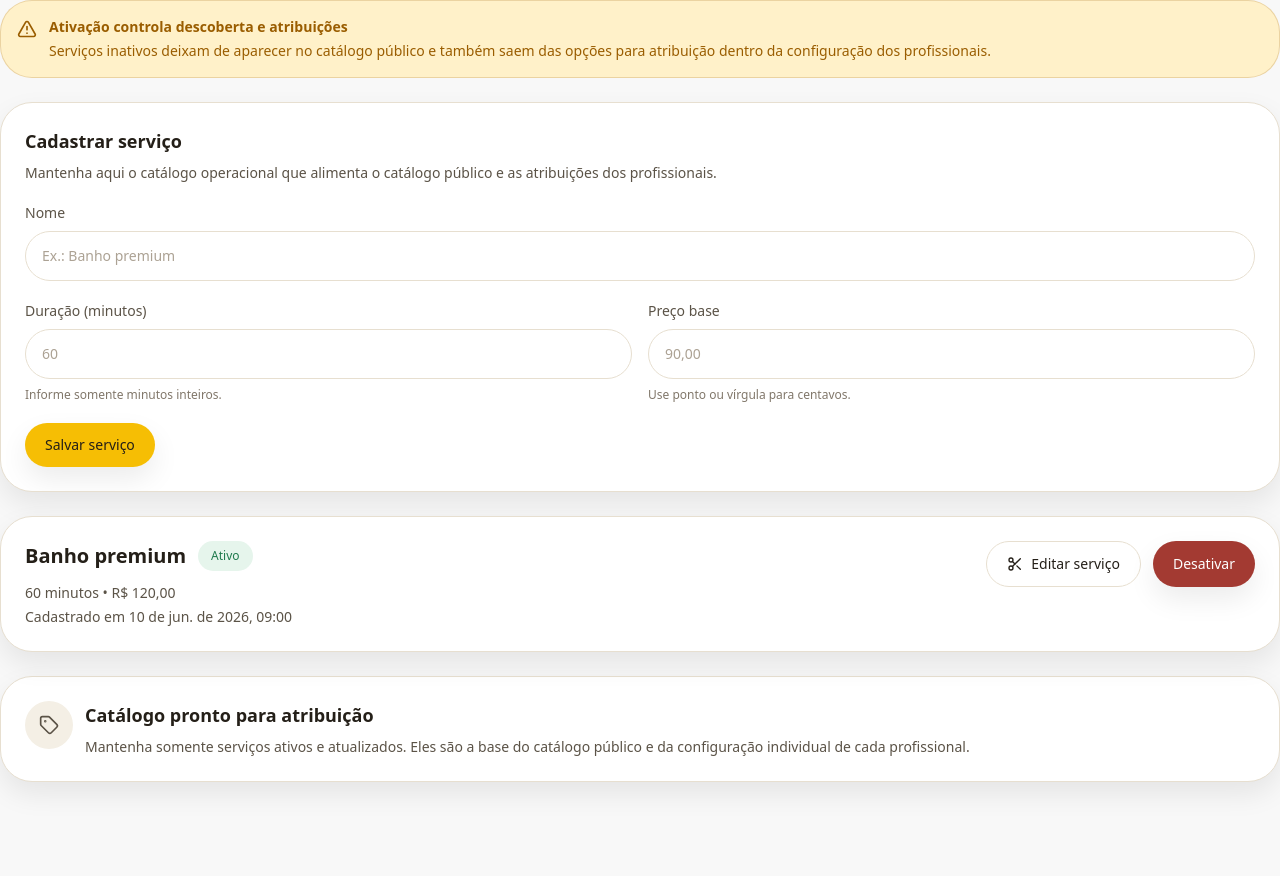
ServicesPageClient › requires confirmation before deactivating a service
Step 1. Click the button "Desativar" → x=1204, y=564, box [1153,541,1255,587]
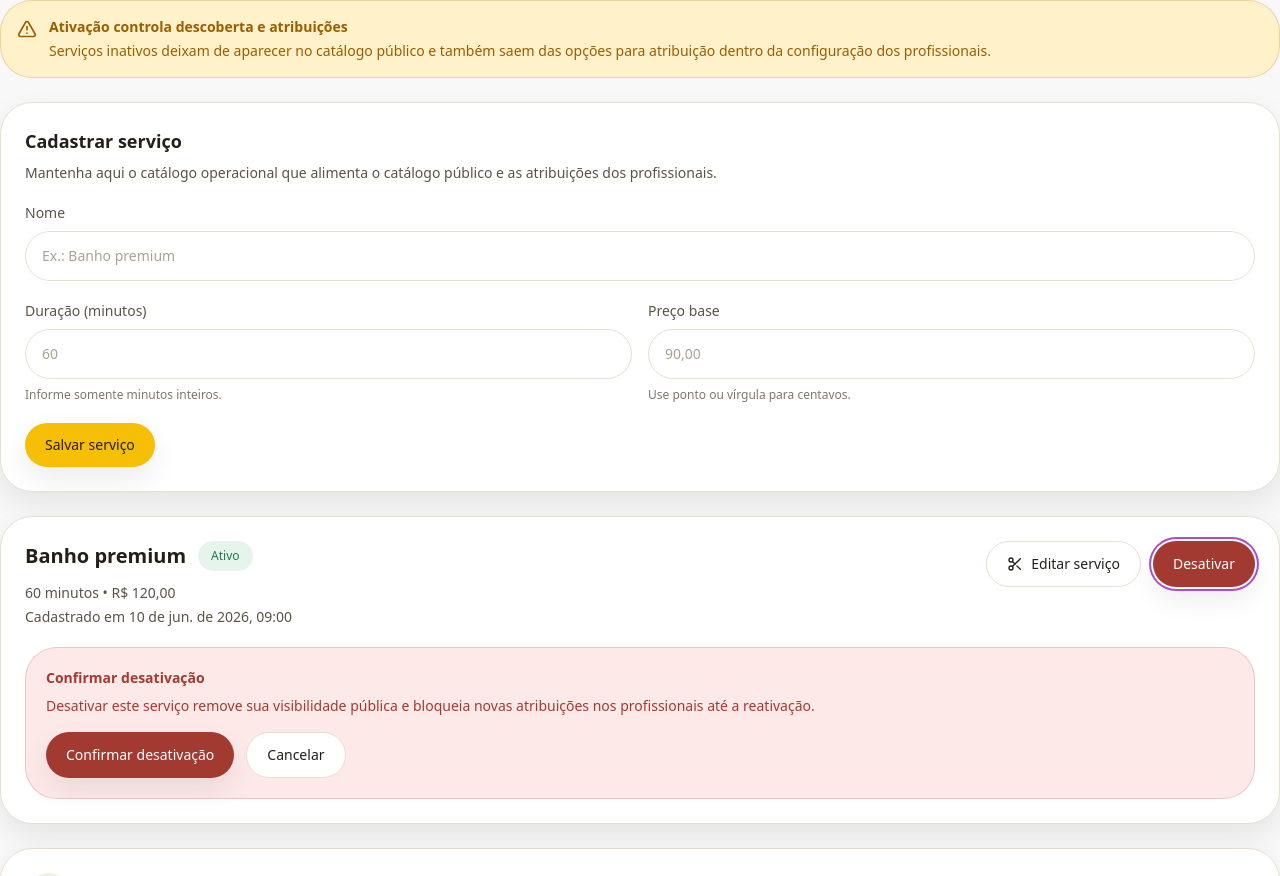
Result: the text "Confirmar desativação" is shown 2 times
Step 2. Click the button "Confirmar desativação" → x=140, y=755, box [46,732,234,778]
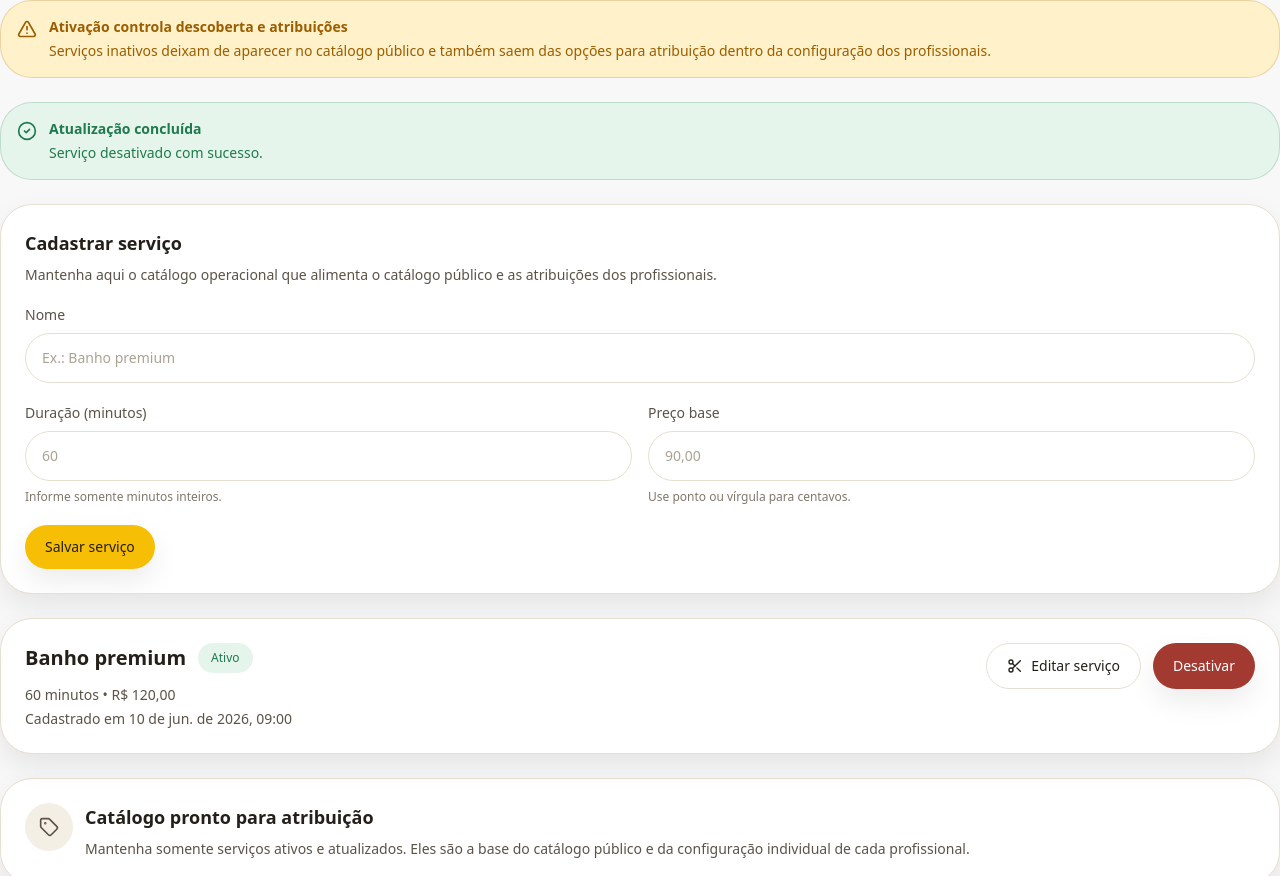
Result: the text "Serviço desativado com sucesso." is shown at [49,143,263,163]
